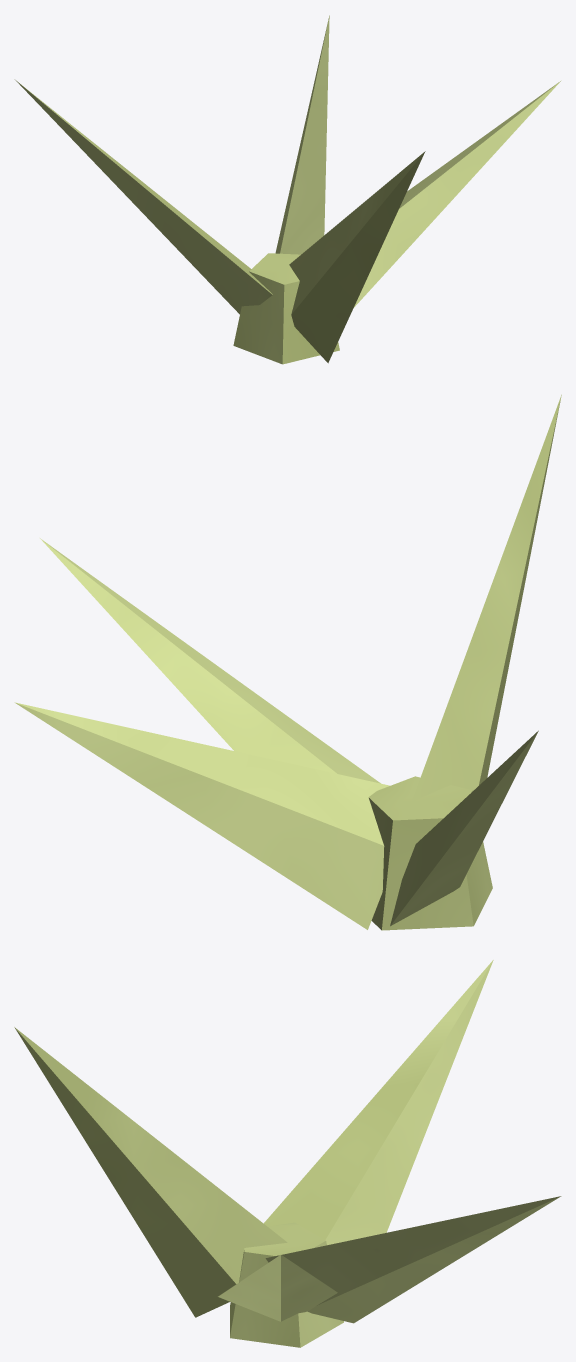
File: sm_crop_herb_1.glb
3 views of the same model, one above another, from view 1: azimuth 30°, elevation 25°; view 2: azimuth 150°, elevation 25°; view 3: azimuth 270°, elevation 25° (orthographic). The views are drawn at different scales.
Parts seen in each view (by area): view 1: sm_crop_herb_1; view 2: sm_crop_herb_1; view 3: sm_crop_herb_1.
Part boxes in pixels (<box>): sm_crop_herb_1: <box>14,15,561,364</box>; sm_crop_herb_1: <box>14,394,561,930</box>; sm_crop_herb_1: <box>14,960,561,1347</box>.
Size of the model in its own units: 0.0975 by 0.0561 by 0.0911.
1 material, 1 textured.
